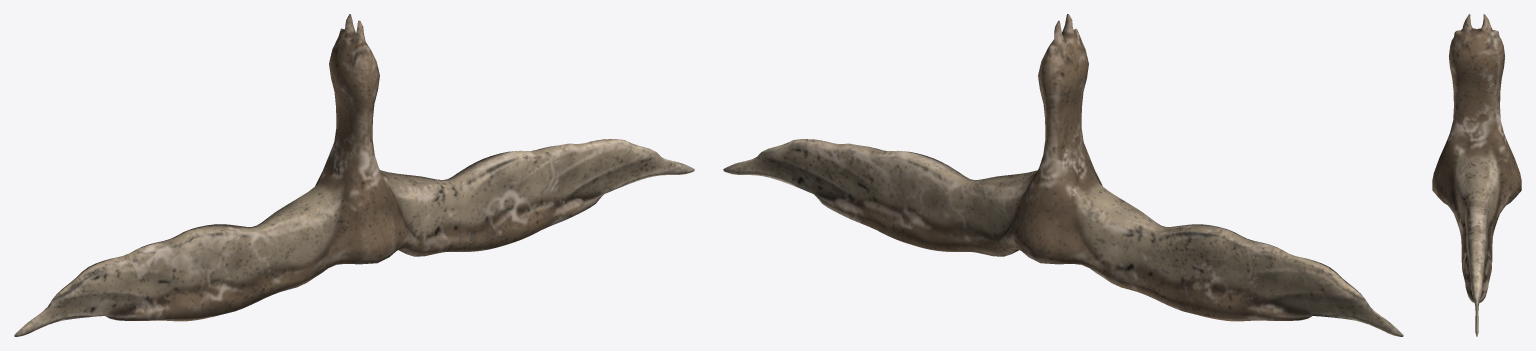
File: wm_swan_knight_sword_a_guard.fbx
The picture shows the model from 3 angles, left to right: view 1: azimuth 30°, elevation 25°; view 2: azimuth 150°, elevation 25°; view 3: azimuth 270°, elevation 25°; orthographic projection. The views are drawn at different scales.
Visible parts, largest first — view 1: wm_swan_knight_sword_a_guard; view 2: wm_swan_knight_sword_a_guard; view 3: wm_swan_knight_sword_a_guard.
Boxes of the visible parts, x1=… form: wm_swan_knight_sword_a_guard: x1=14, y1=14, x2=694, y2=336; wm_swan_knight_sword_a_guard: x1=723, y1=14, x2=1403, y2=336; wm_swan_knight_sword_a_guard: x1=1432, y1=14, x2=1521, y2=336.
Size of the model in its own units: 0.2591 by 0.0369 by 0.0964.
1 material, 1 textured.
